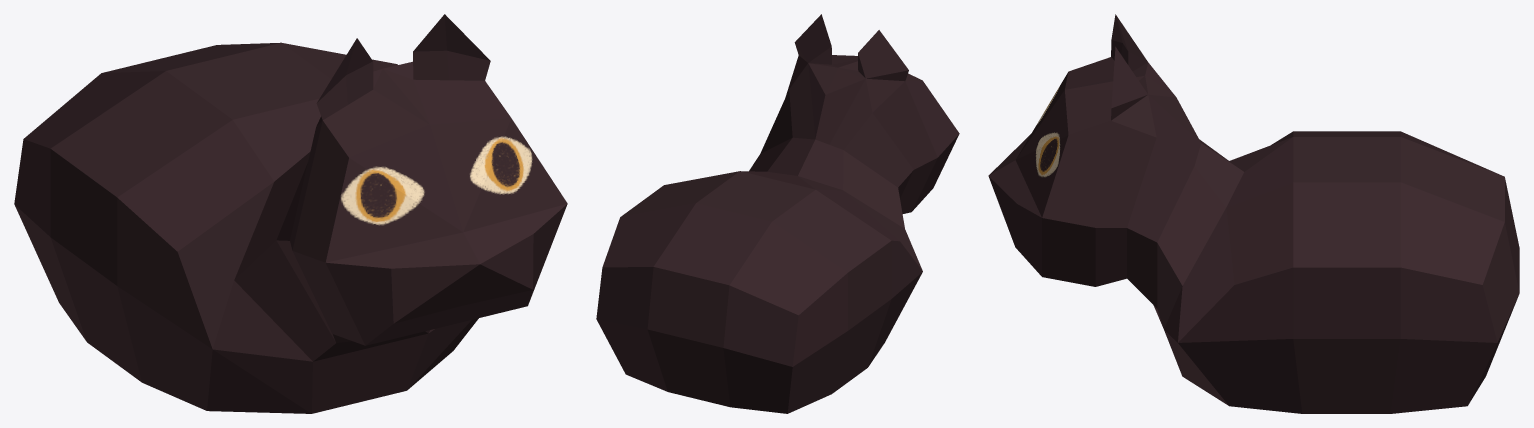
The model's file is charlotta_statue.glb.
3 renders of one model, left to right at view 1: azimuth 30°, elevation 25°; view 2: azimuth 150°, elevation 25°; view 3: azimuth 270°, elevation 25°, orthographic. The views are drawn at different scales.
Visible parts, largest first — view 1: charlotta marfim e onyx; view 2: charlotta marfim e onyx; view 3: charlotta marfim e onyx.
Boxes of the visible parts, x1,y1,x2,y2 form: charlotta marfim e onyx: [14, 14, 567, 413]; charlotta marfim e onyx: [596, 14, 959, 413]; charlotta marfim e onyx: [988, 14, 1519, 413].
Bounding box in the file's own units: 0.4146 × 0.5008 × 0.6835.
Materials: 1 (1 with a texture image).
